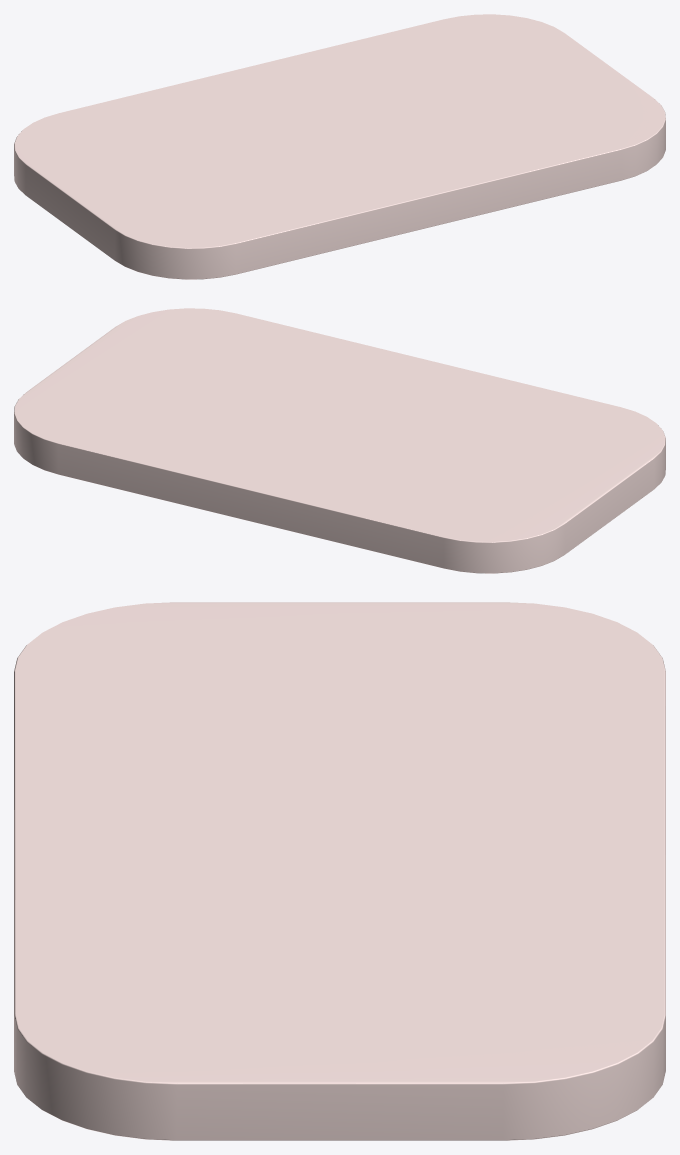
File: Public_6_Base_1.glb
3 views of the same model, one above another, from view 1: azimuth 30°, elevation 25°; view 2: azimuth 150°, elevation 25°; view 3: azimuth 270°, elevation 25° (orthographic). The views are drawn at different scales.
Parts seen in each view (by area): view 1: Public_6_Base_1; view 2: Public_6_Base_1; view 3: Public_6_Base_1.
Part boxes in pixels (x1,y1,x2,y2): Public_6_Base_1: (14, 14, 665, 279); Public_6_Base_1: (14, 308, 665, 573); Public_6_Base_1: (14, 602, 665, 1140).
Bounding box in the file's own units: 21.88 × 1.23 × 12.5.
1 material, 1 textured.
